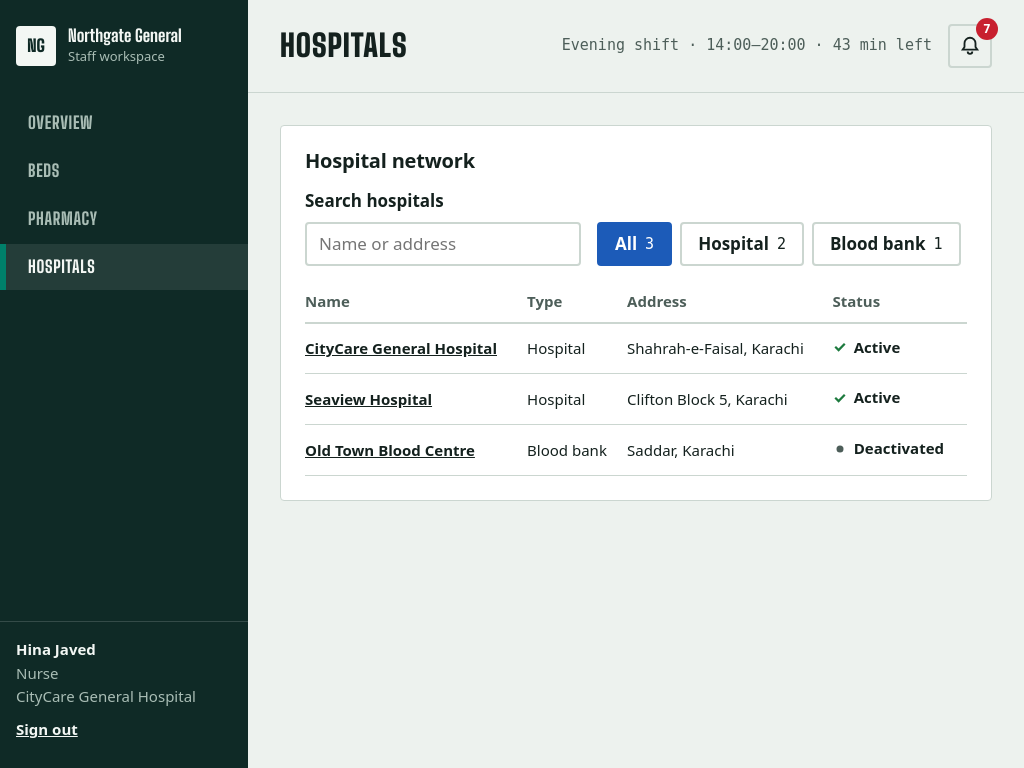
Test: HospitalsPage (story 1.3 Hospital registration) › searches by name or address and filters by type
Step 1. Type "clifton" into the search field labelled "Search hospitals" → [443, 244], box [305,222,581,266]
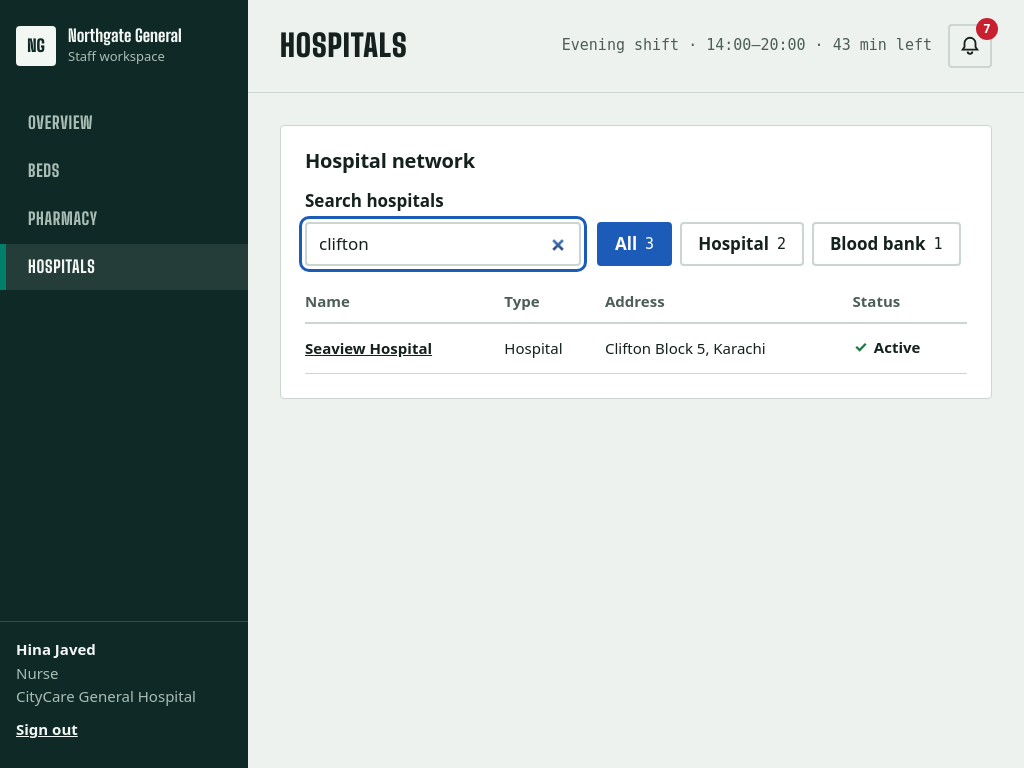
Step 2. Clear the search field labelled "Search hospitals" → [443, 244], box [305,222,581,266]
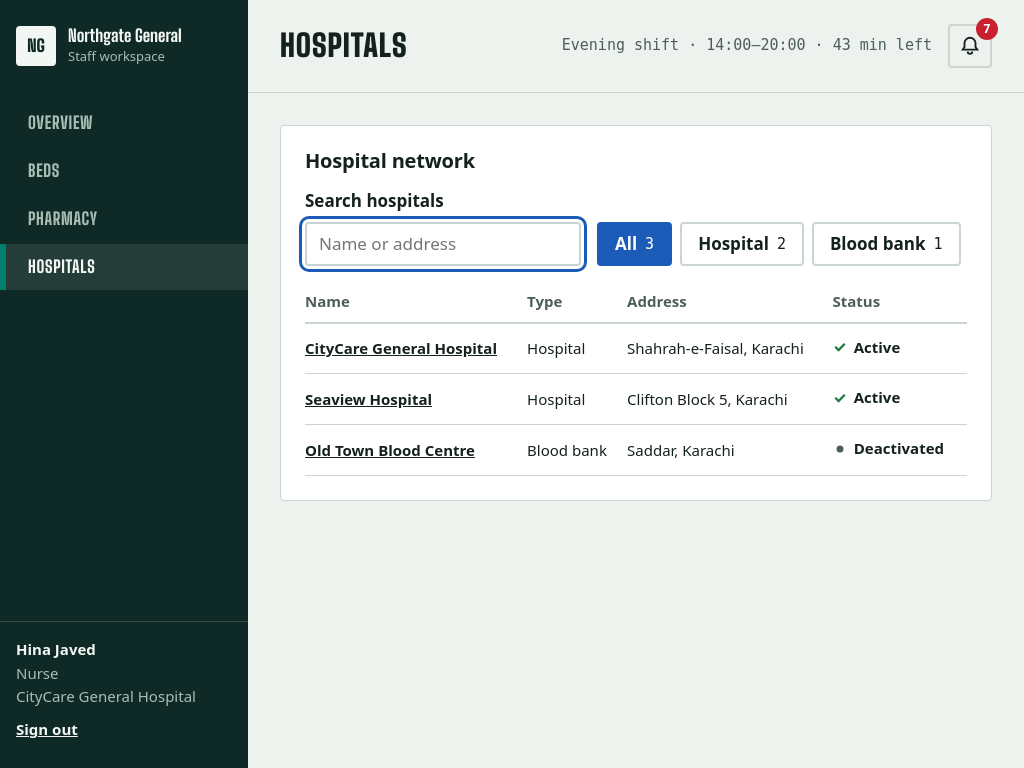
Step 3. Click the button "Blood bank 1" → [886, 244], box [812,222,960,266]
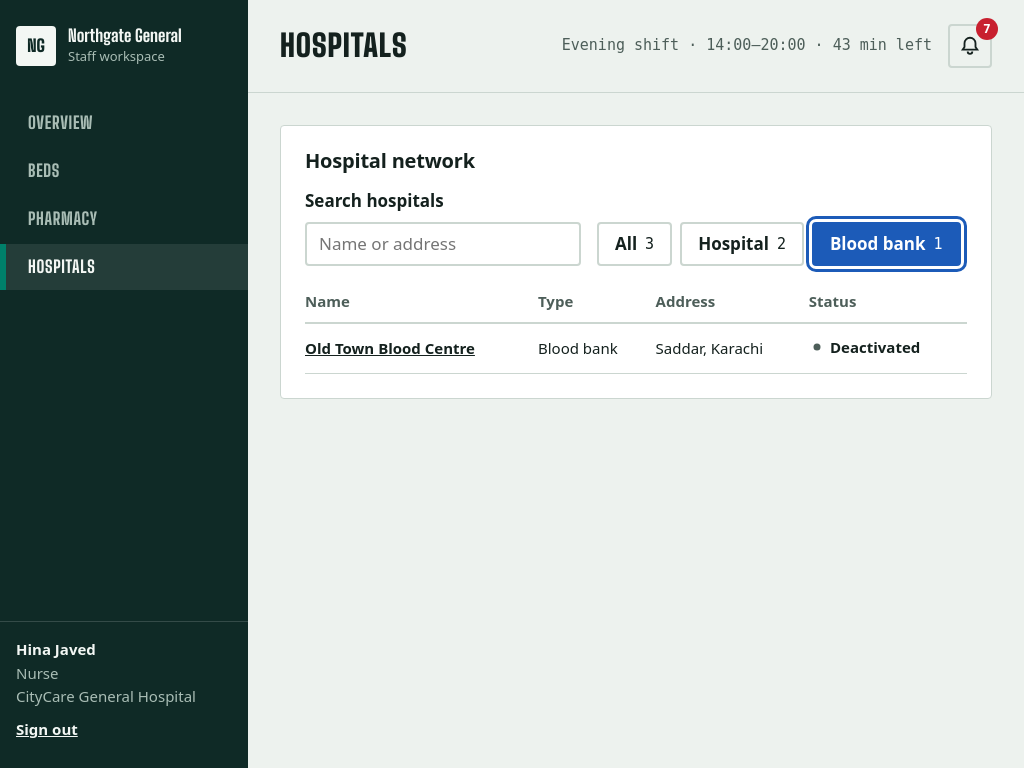
Step 4. Type "seaview" into the search field labelled "Search hospitals" → [443, 244], box [305,222,581,266]
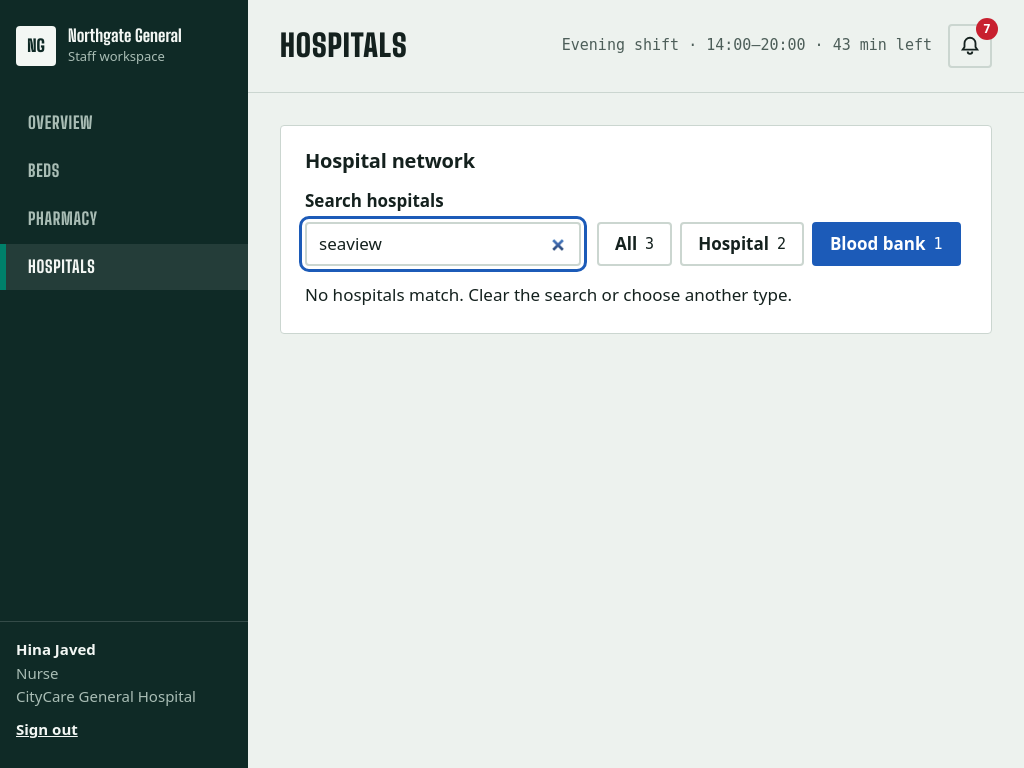
Now the text "No hospitals match. Clear the search or choose another type." is shown, box [305,283,792,306]
